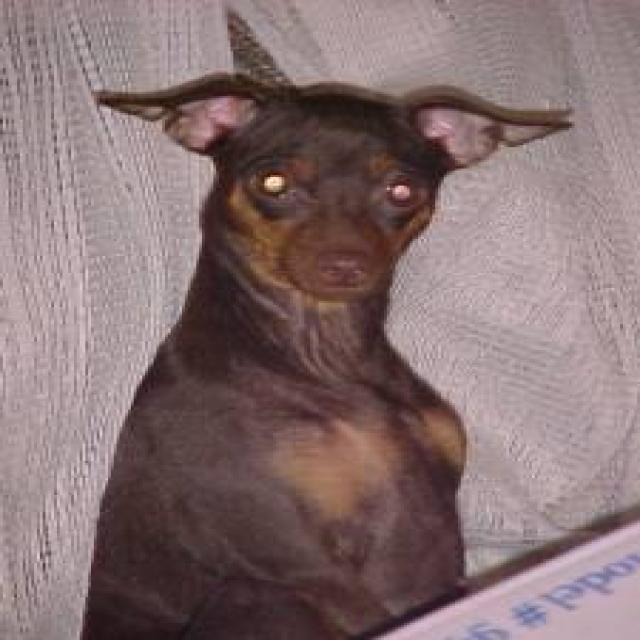dog-miniature_pinscher: (63, 64, 589, 636)
